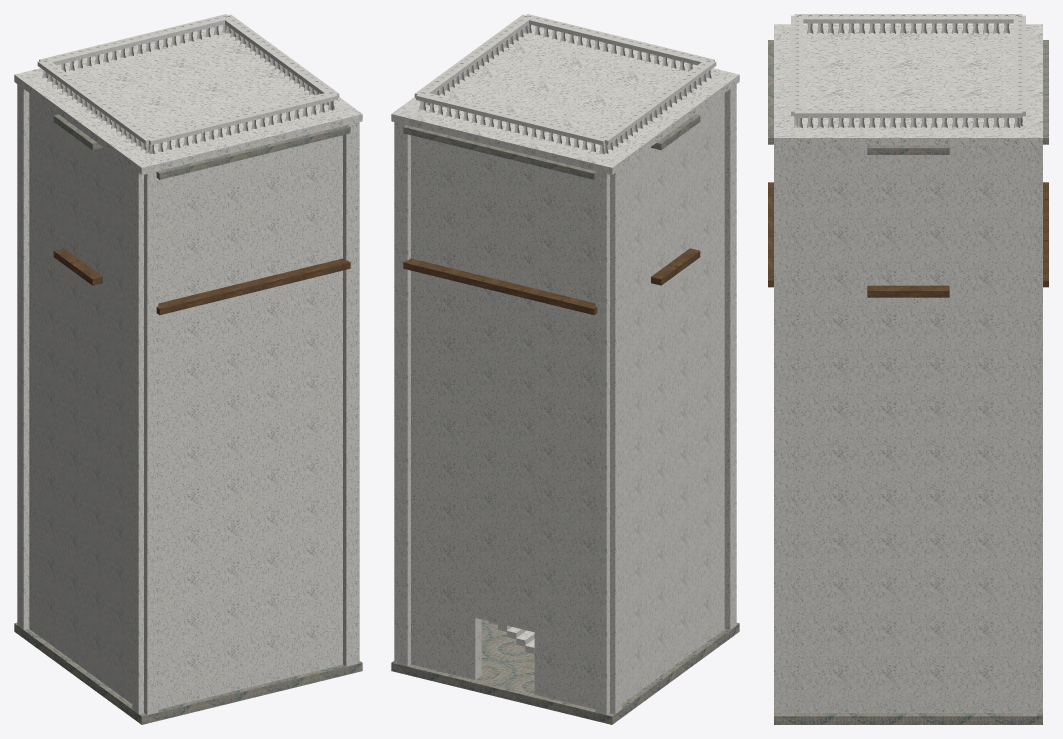
The model's file is world.glb.
3 views of the same model, side by side, from view 1: azimuth 30°, elevation 25°; view 2: azimuth 150°, elevation 25°; view 3: azimuth 270°, elevation 25° (orthographic). The views are drawn at different scales.
Parts seen in each view (by area): view 1: Build_crownwater_tide_campanile_crownwater_marble, Walk_crownwater_mosaic, Walk_timber_warm; view 2: Build_crownwater_tide_campanile_crownwater_marble, Walk_crownwater_mosaic, Walk_timber_warm, Walk_crownwater_marble; view 3: Build_crownwater_tide_campanile_crownwater_marble, Walk_crownwater_mosaic, Walk_timber_warm.
Part boxes in pixels (<box>): Build_crownwater_tide_campanile_crownwater_marble: <box>14,14,362,715</box>; Walk_crownwater_mosaic: <box>14,114,362,724</box>; Walk_timber_warm: <box>53,248,350,315</box>; Build_crownwater_tide_campanile_crownwater_marble: <box>391,14,739,715</box>; Walk_crownwater_mosaic: <box>391,114,739,724</box>; Walk_timber_warm: <box>403,248,700,315</box>; Walk_crownwater_marble: <box>489,621,534,658</box>; Build_crownwater_tide_campanile_crownwater_marble: <box>774,14,1042,716</box>; Walk_crownwater_mosaic: <box>768,40,1048,724</box>; Walk_timber_warm: <box>768,182,1048,297</box>.
Bounding box in the file's own units: 11.6 × 27.57 × 11.6.
Materials: 8 (8 with a texture image).
